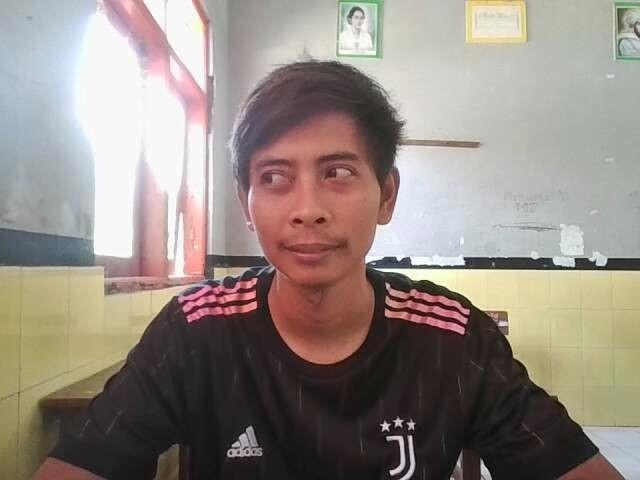cheating: (220, 53, 426, 322)
